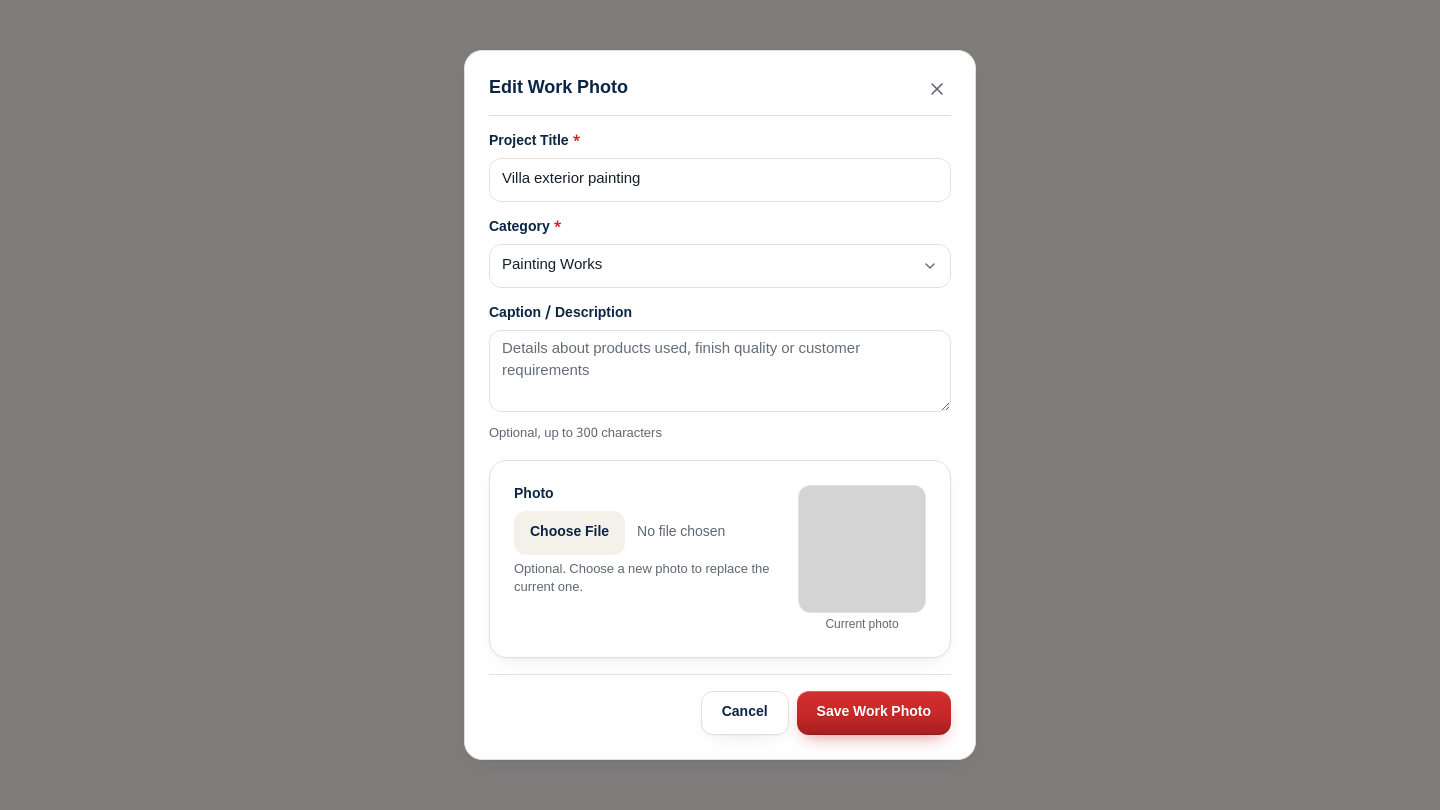
it: GalleryForm › asks before closing with unsaved changes
The width and height of the screenshot is (1440, 810).
Type " at Kotul" into the field labelled "Project Title *".
click(720, 180); type(" at Kotul")  # box [489,158,951,202]
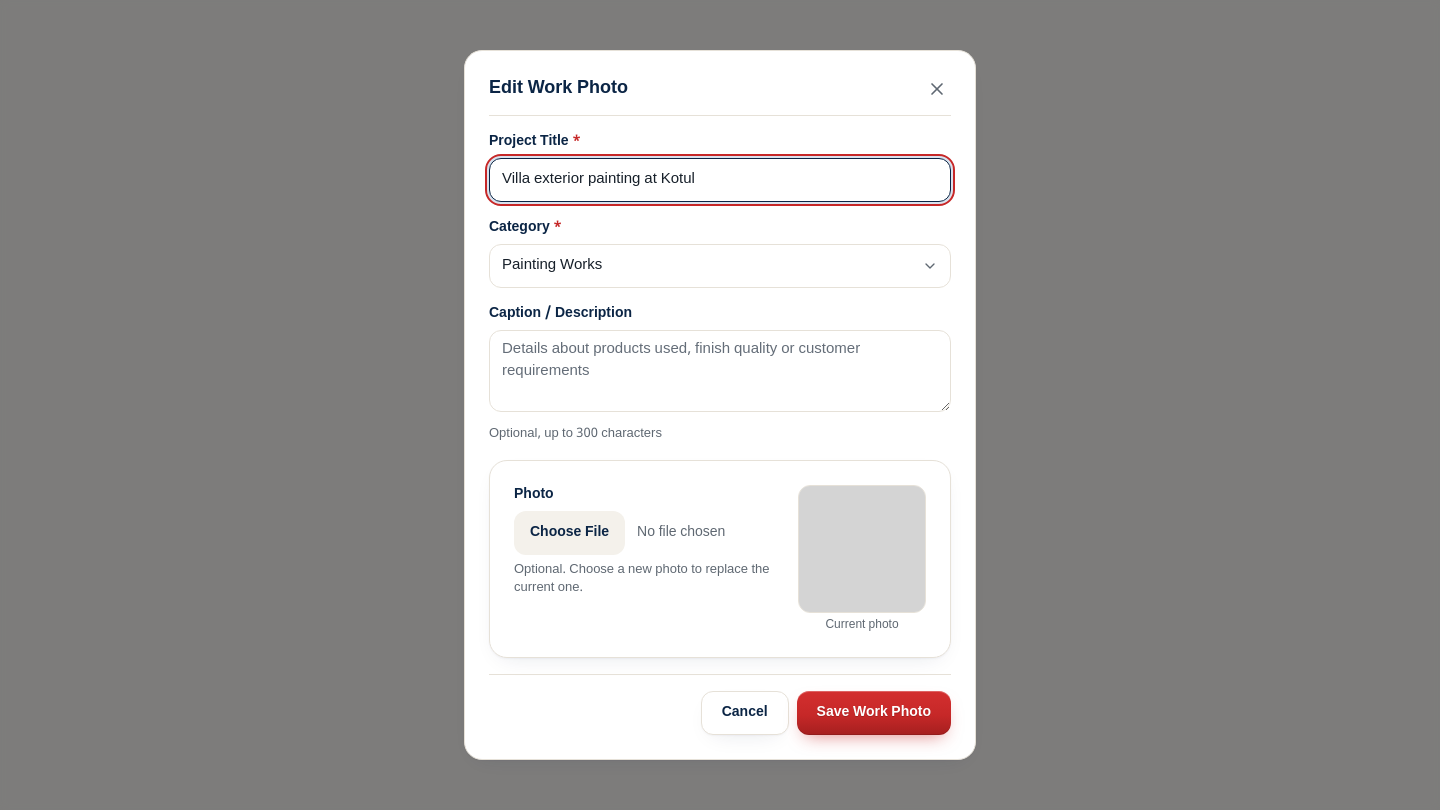
Click the button "Cancel".
click(745, 713)  # box [701,691,789,735]
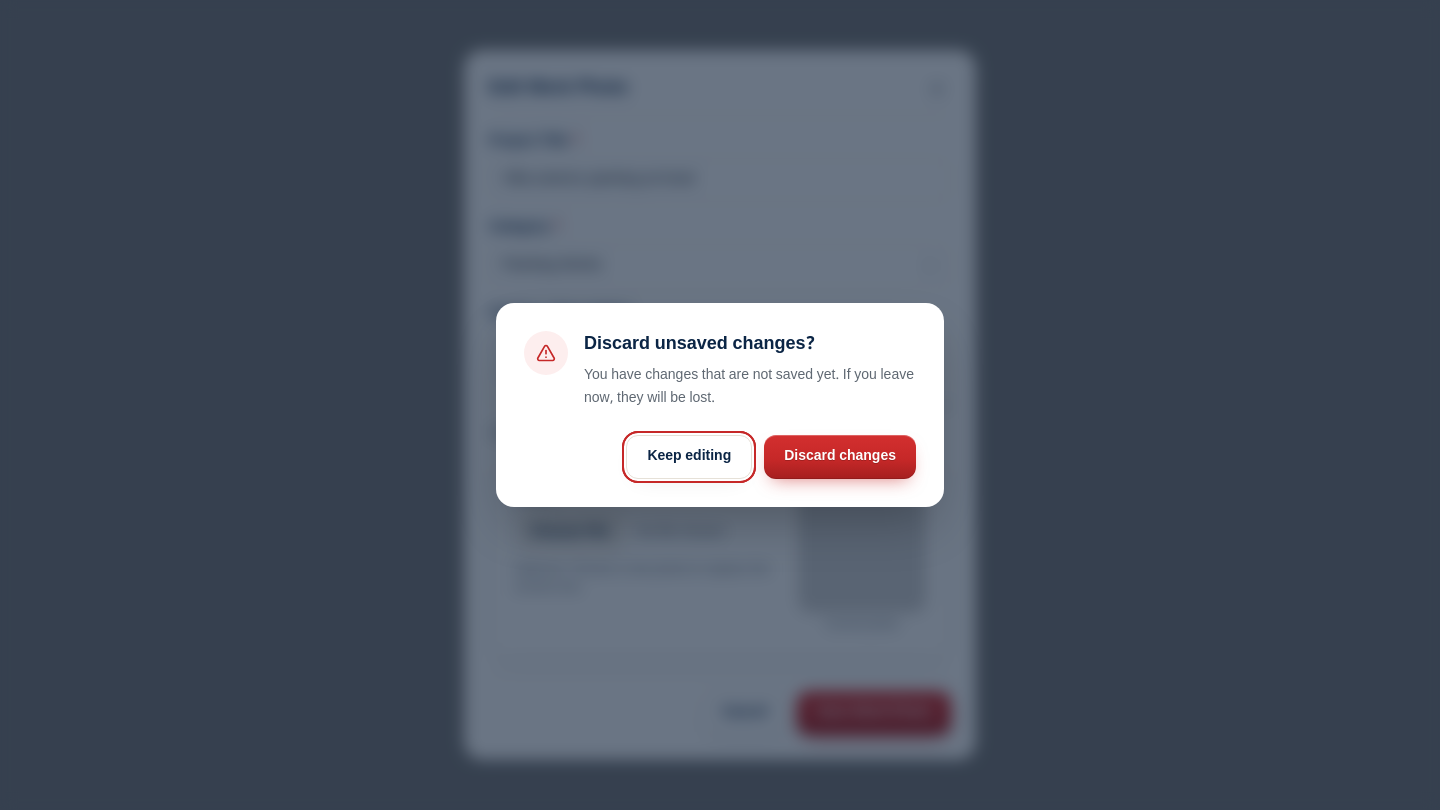
expect the dialog "Discard unsaved changes?" is shown: met, box [496,303,944,507]
